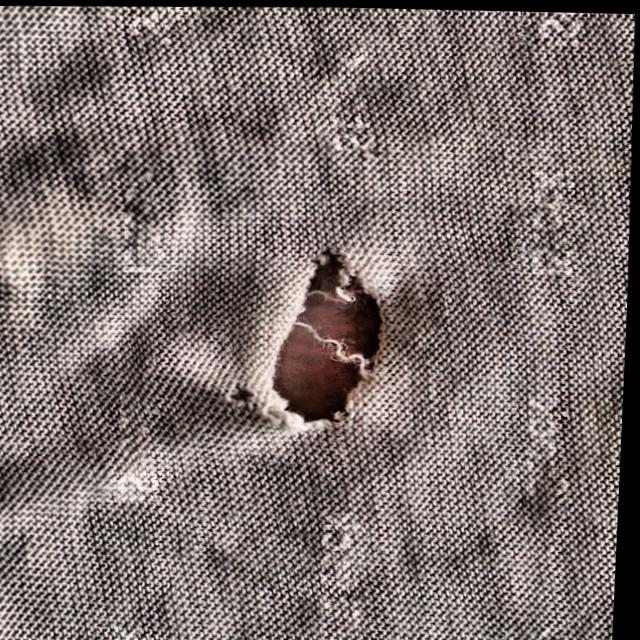Hole: (205, 207, 446, 465)
